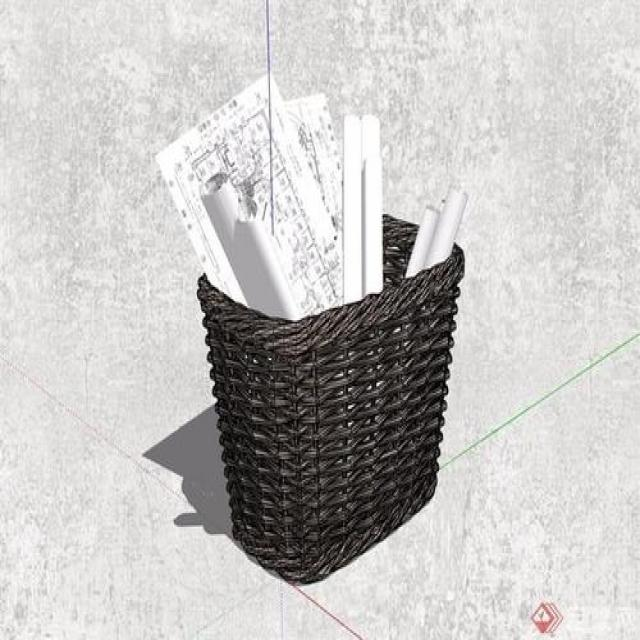Dustbin: (192, 205, 469, 592)
